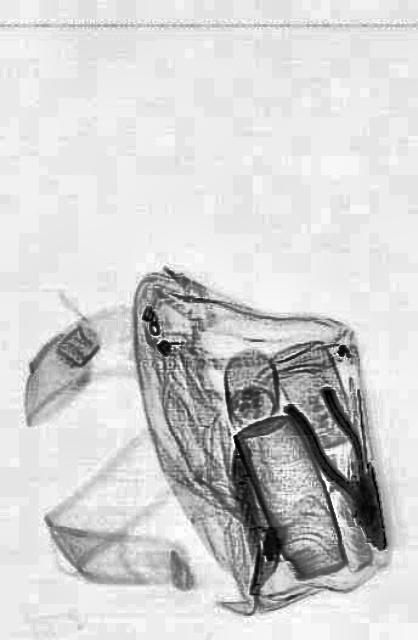Pliers: (283, 370, 403, 568)
